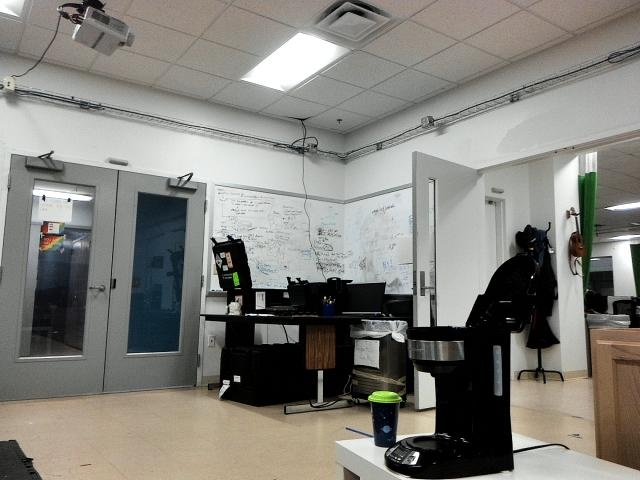water_cup: (365, 387, 402, 452)
